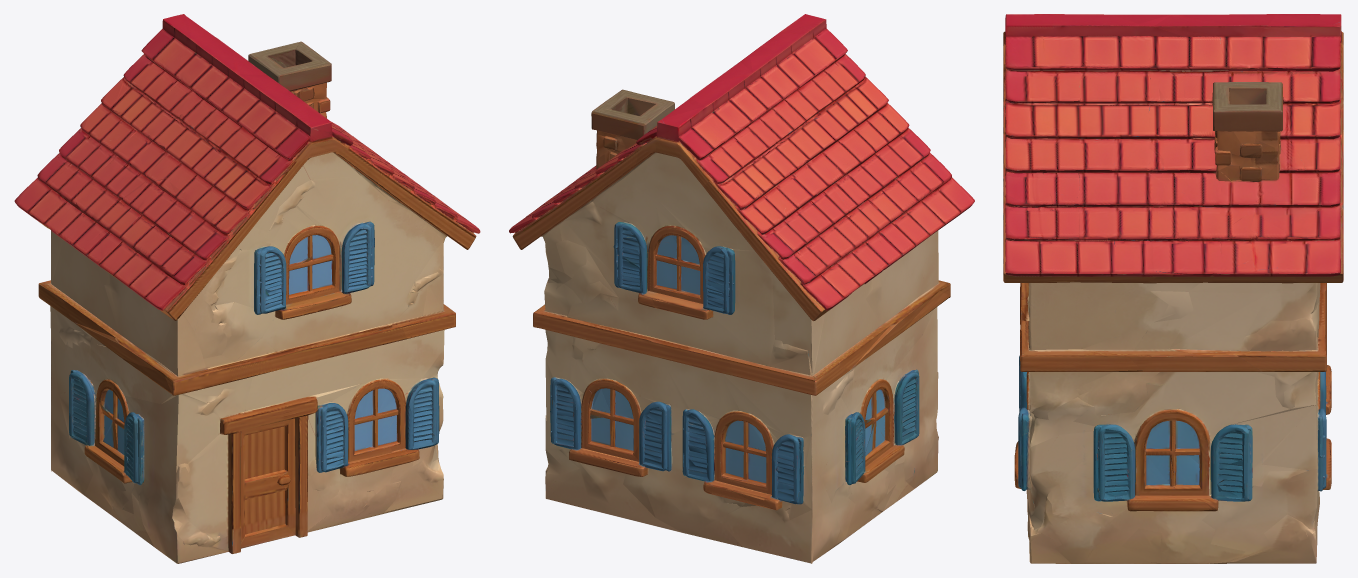
The model's file is home.glb.
3 renders of one model, left to right at view 1: azimuth 30°, elevation 25°; view 2: azimuth 150°, elevation 25°; view 3: azimuth 270°, elevation 25°, orthographic. The views are drawn at different scales.
Size of the model in its own units: 1.54 by 1.9 by 1.24.
1 material, 1 textured.
